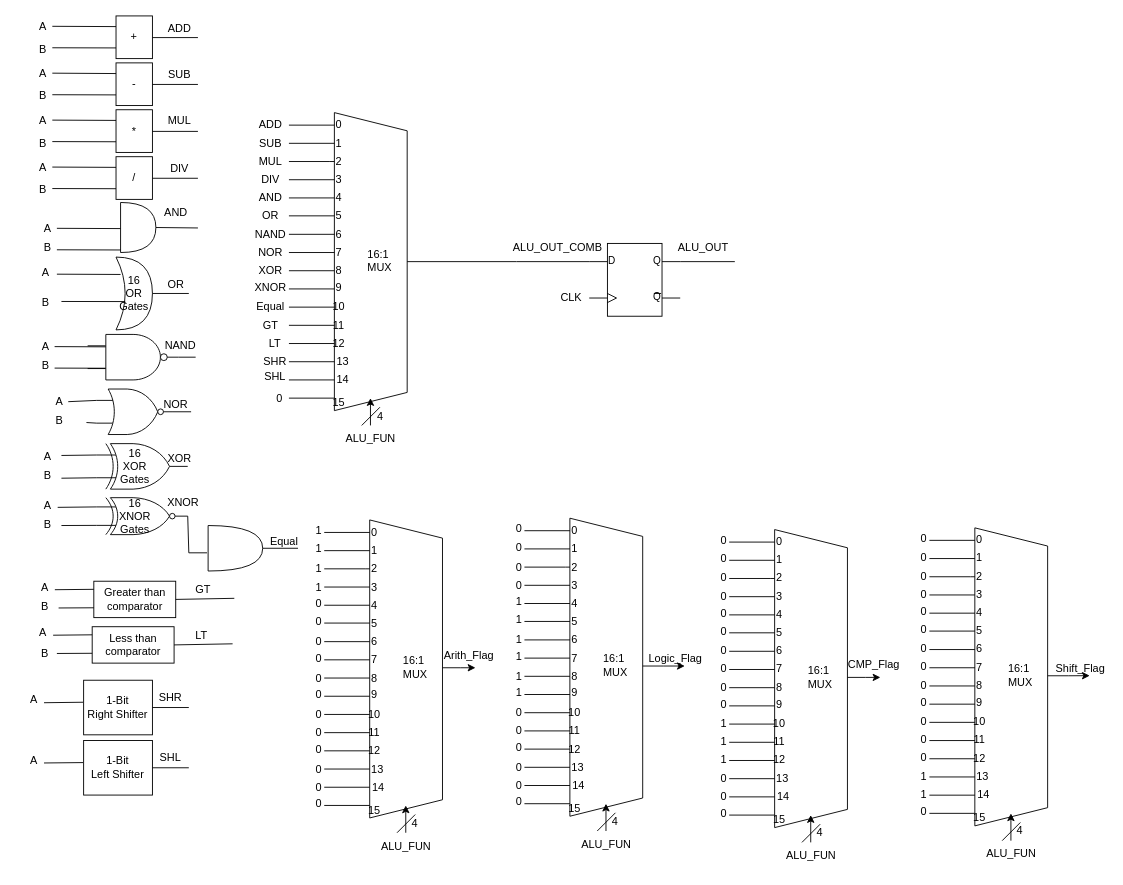
The diagram is 1123 pixels wide and 885 high, and some of its shapes have lost their labels. Here are the shapes that lost their labels. From the top down, the box of each, then its label:
(120, 202, 156, 253): 16 AND Gates
(87, 334, 179, 380): 16 NAND Gates
(96, 388, 173, 435): 16 NOR Gates
(207, 525, 263, 571): 1 AND Gate
